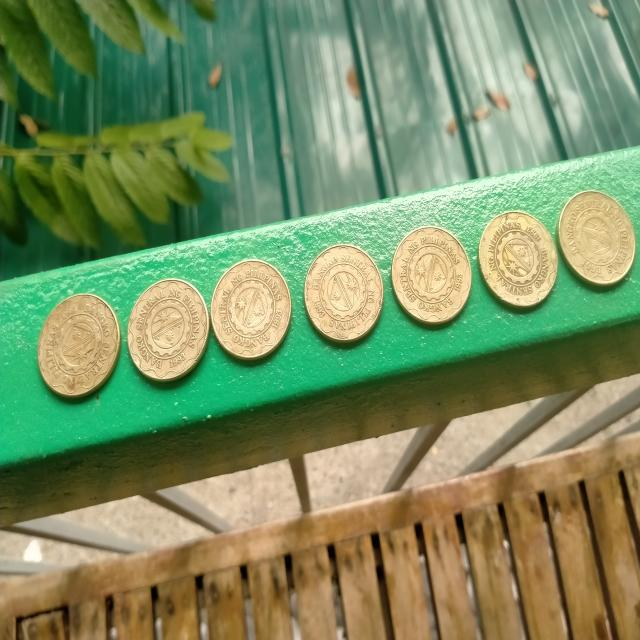5_Old_Back: (131, 288, 208, 379), (488, 216, 553, 300), (315, 252, 375, 341)
